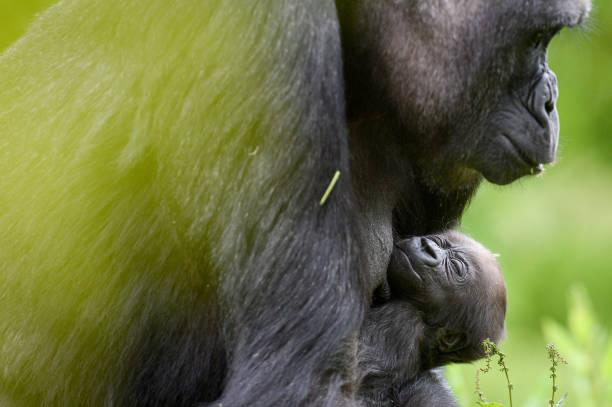gorille_Autres: (2, 3, 612, 407)
